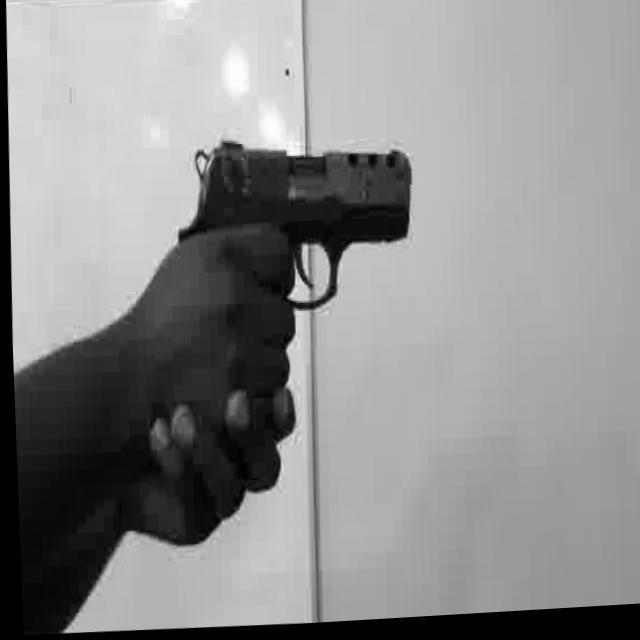weapon: (168, 131, 414, 329)
